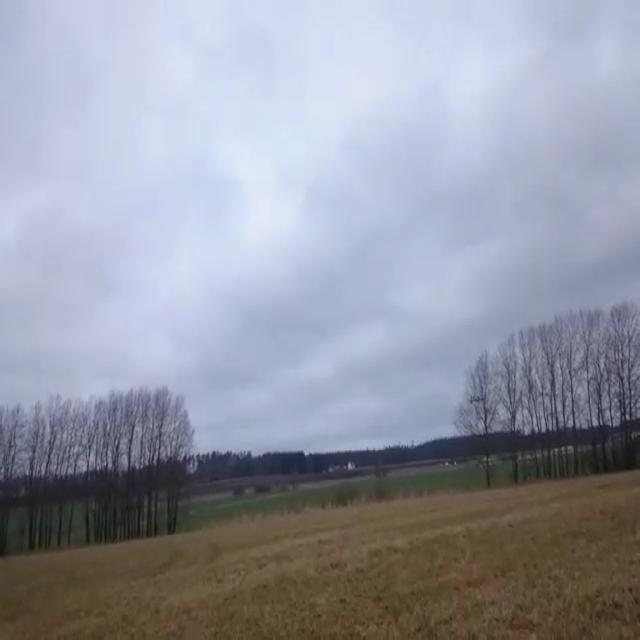Drone: (461, 386, 490, 412)
